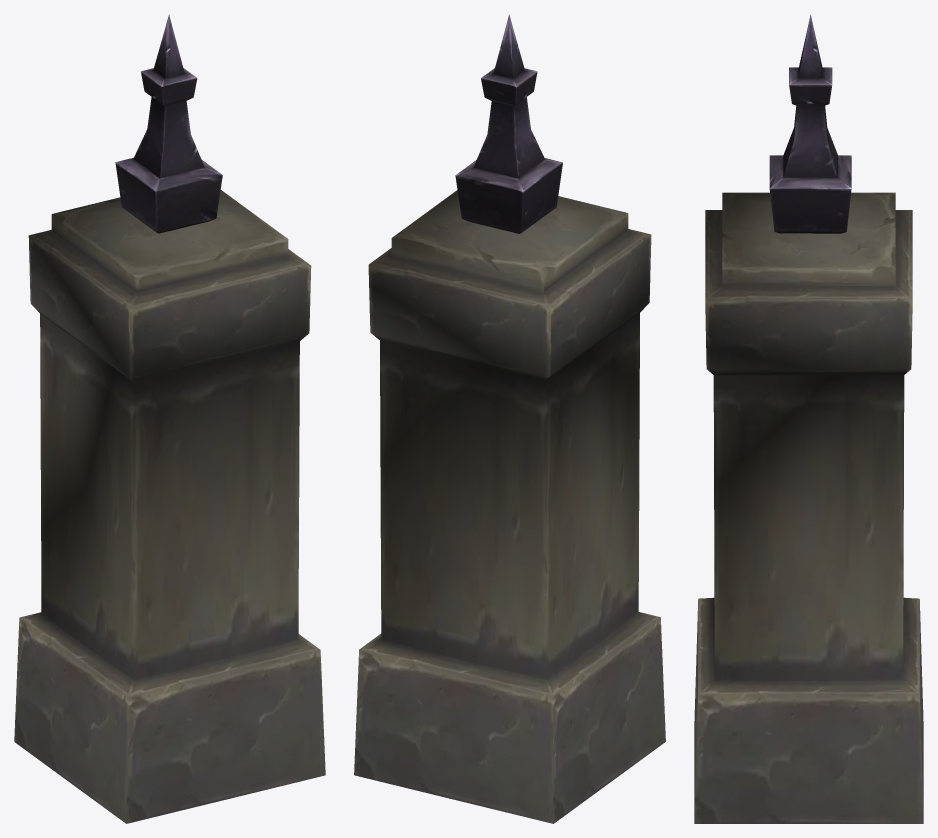
3 views of the same model, side by side, from view 1: azimuth 30°, elevation 25°; view 2: azimuth 150°, elevation 25°; view 3: azimuth 270°, elevation 25° (orthographic). The views are drawn at different scales.
Bounding box in the file's own units: 1.32 × 4.72 × 1.29.
Materials: 2 (2 with a texture image).
